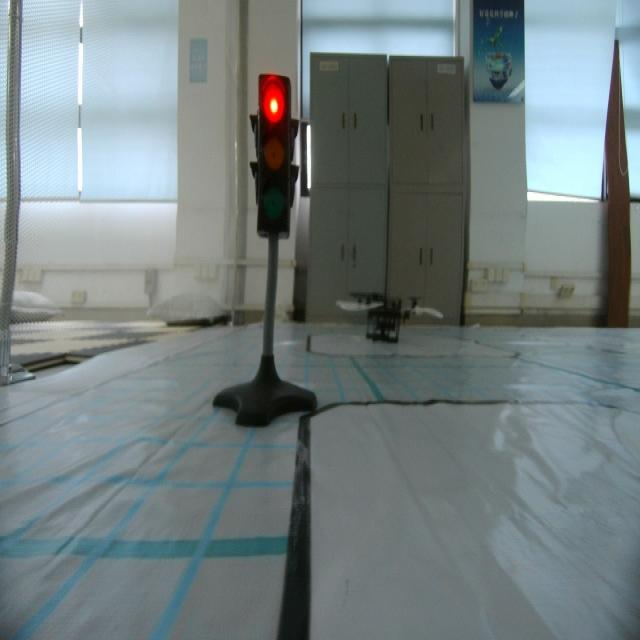red: (252, 69, 296, 246)
